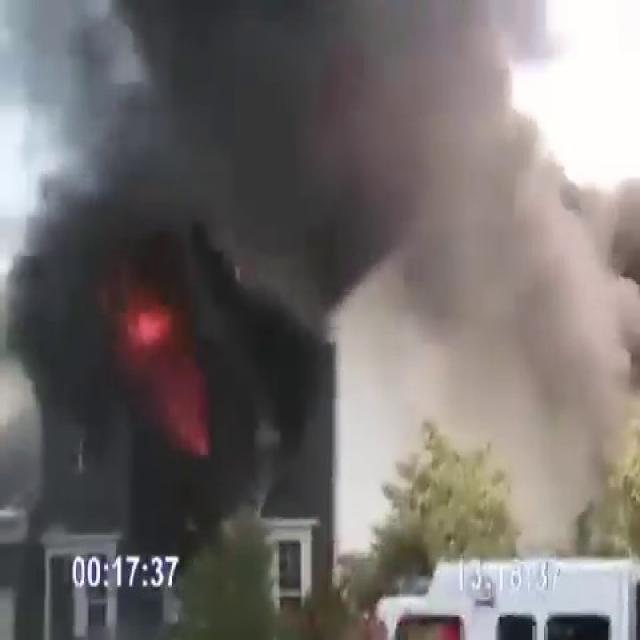Smoke: (0, 0, 630, 460)
